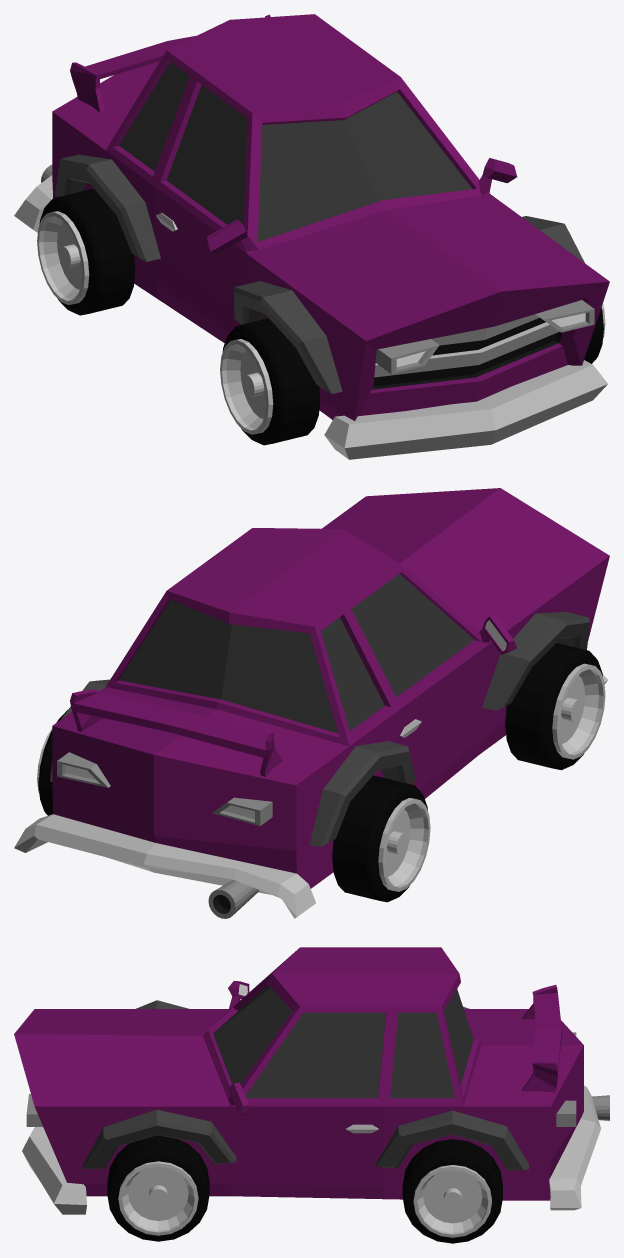
The picture shows the model from 3 angles, top to bottom: view 1: azimuth 30°, elevation 25°; view 2: azimuth 150°, elevation 25°; view 3: azimuth 270°, elevation 25°; orthographic projection. The views are drawn at different scales.
Visible parts, largest first — view 1: LowPoly_car, LowPoly_car.002, LowPoly_car.001, LowPoly_car.004; view 2: LowPoly_car, LowPoly_car.002, LowPoly_car.001, LowPoly_car.003; view 3: LowPoly_car, LowPoly_car.004, LowPoly_car.003.
Boxes of the visible parts, box(x1,y1,x2,y2) form: LowPoly_car: box(14, 14, 609, 459); LowPoly_car.002: box(37, 189, 135, 315); LowPoly_car.001: box(220, 318, 320, 445); LowPoly_car.004: box(584, 303, 605, 363); LowPoly_car: box(14, 488, 609, 918); LowPoly_car.002: box(332, 775, 430, 902); LowPoly_car.001: box(505, 643, 605, 770); LowPoly_car.003: box(37, 710, 67, 815); LowPoly_car: box(14, 947, 609, 1214); LowPoly_car.004: box(107, 1135, 209, 1241); LowPoly_car.003: box(402, 1139, 502, 1243).
Bounding box in the file's own units: 553 × 380 × 1002.
